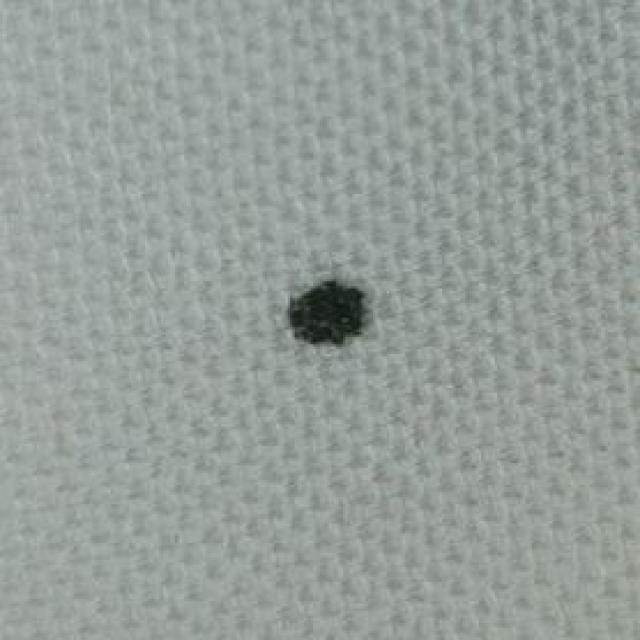Hole: (256, 244, 387, 380)
